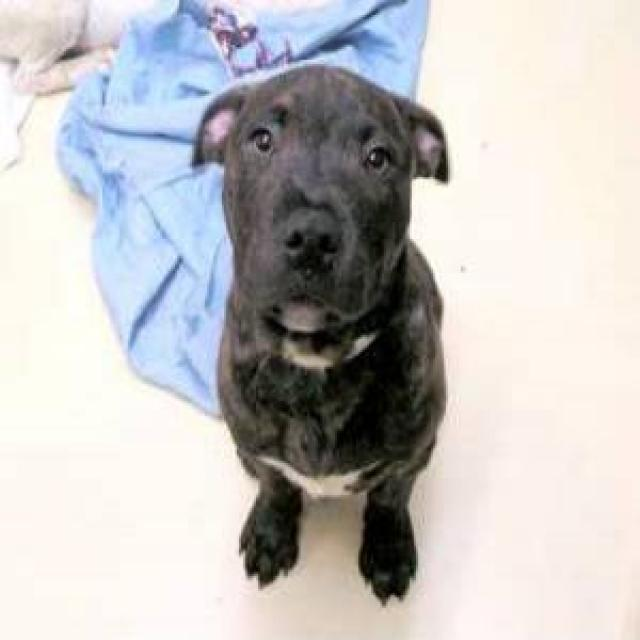dog: (189, 71, 448, 598)
